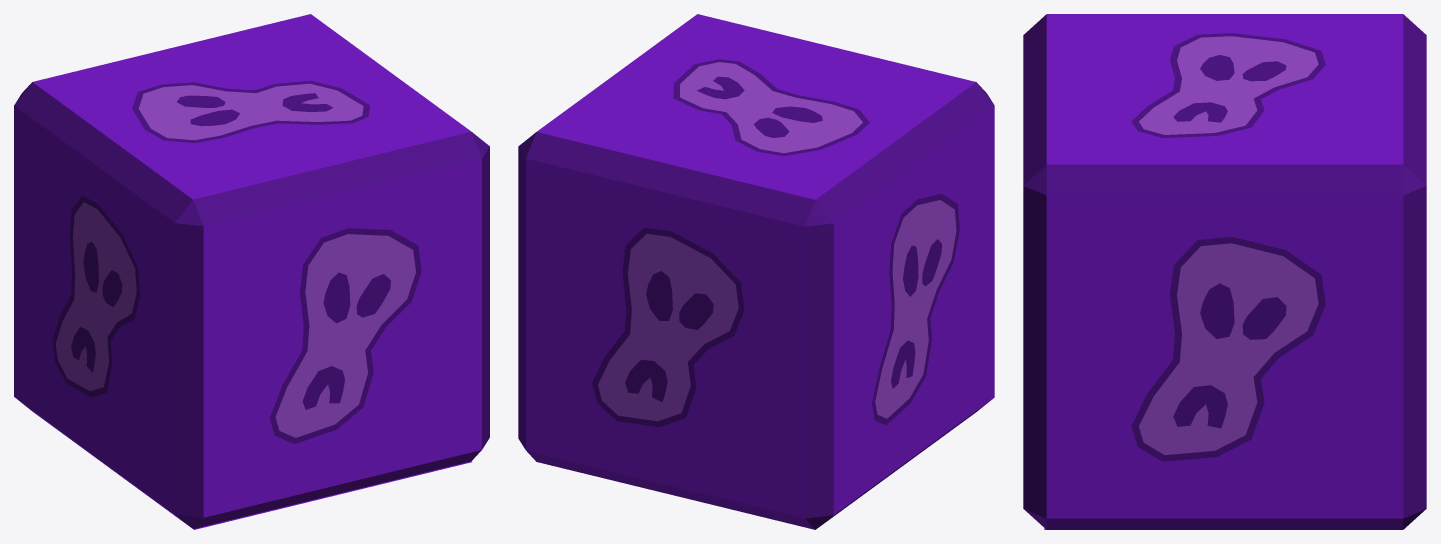
The model's file is debuff_trinket.glb.
The picture shows the model from 3 angles, left to right: view 1: azimuth 30°, elevation 25°; view 2: azimuth 150°, elevation 25°; view 3: azimuth 270°, elevation 25°; orthographic projection. The views are drawn at different scales.
Visible parts, largest first — view 1: DebuffTrinket; view 2: DebuffTrinket; view 3: DebuffTrinket.
Part boxes in pixels (x1,y1,x2,y2): DebuffTrinket: (14, 14, 489, 529); DebuffTrinket: (518, 14, 994, 529); DebuffTrinket: (1023, 14, 1426, 529).
Size of the model in its own units: 1 by 1 by 1.
Materials: 1 (1 with a texture image).
